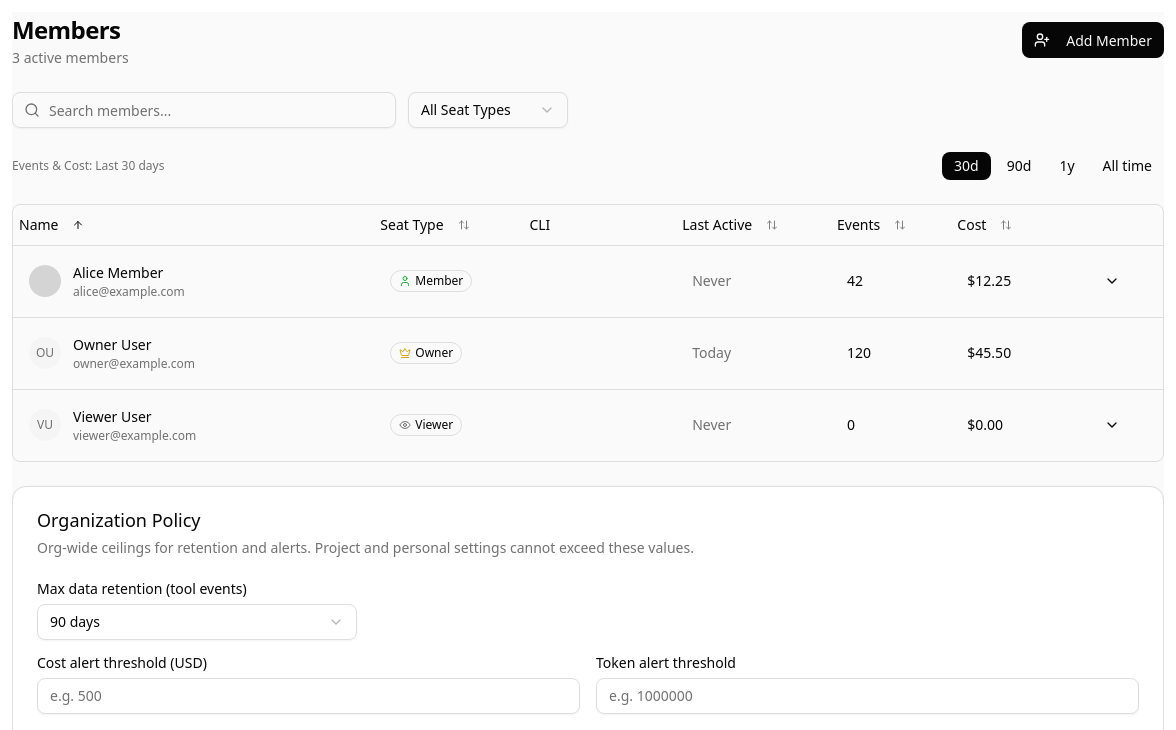
Test: Members › owner access › filters members by search text
The width and height of the screenshot is (1176, 730).
Type "alice" into the field with placeholder "Search members..." at (204, 110), box [12, 92, 396, 128]
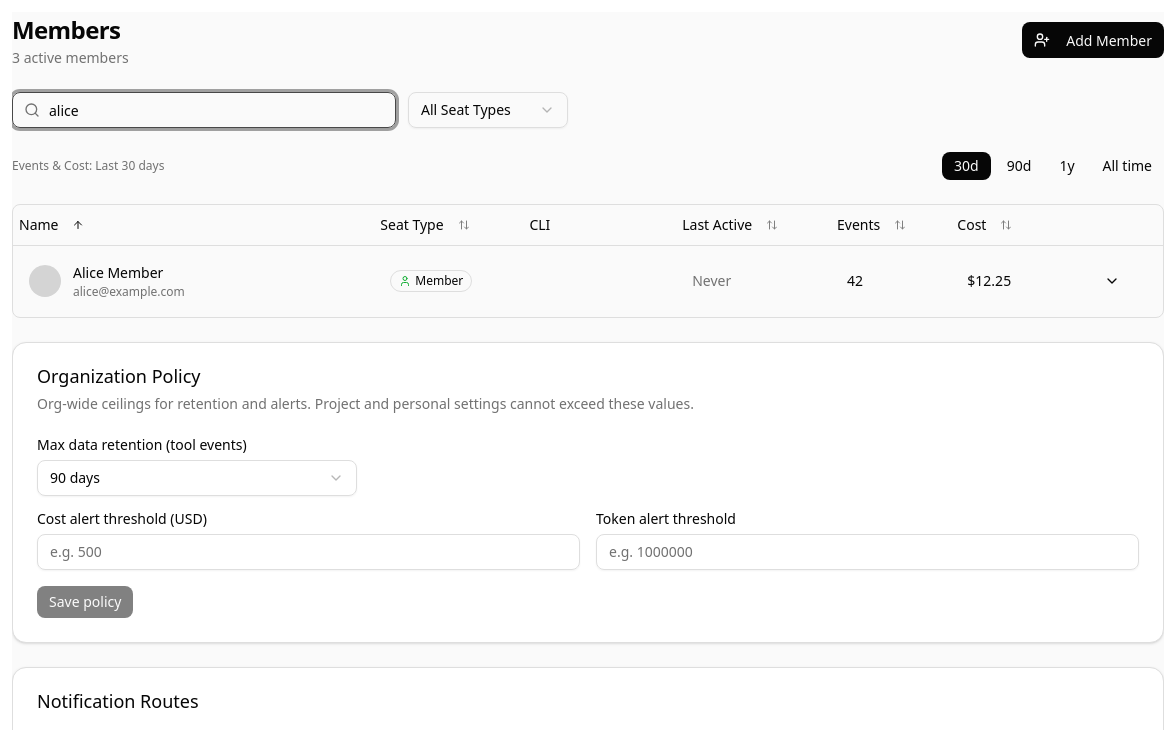
Expected: the text "Alice Member" is shown, [73, 262, 163, 282]
Now the text "Viewer User" is gone
